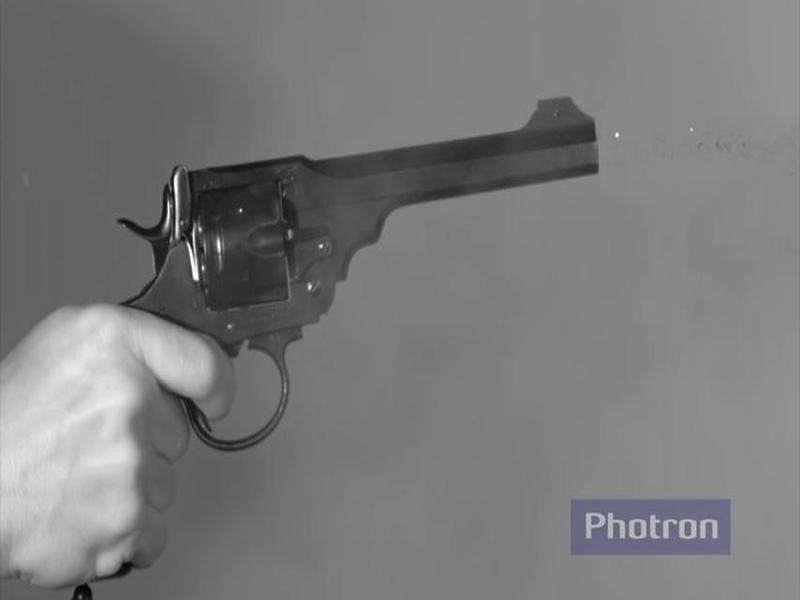Revolver: (120, 79, 626, 451)
